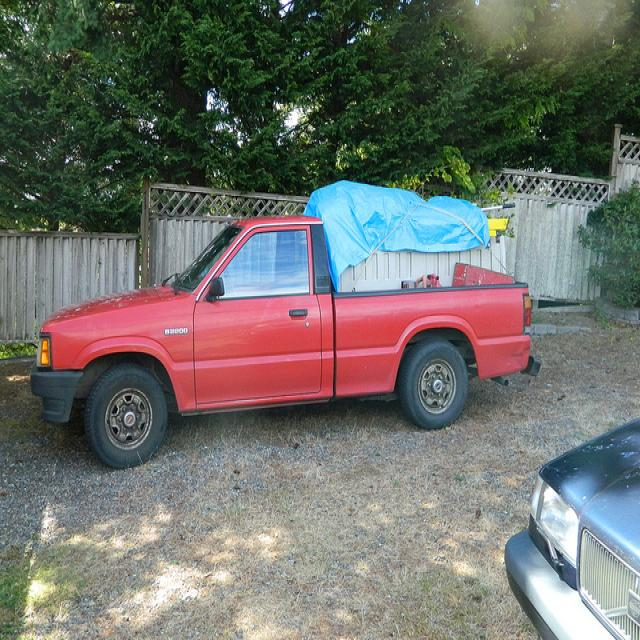Vehicle: (28, 212, 543, 470), (503, 415, 640, 639)
